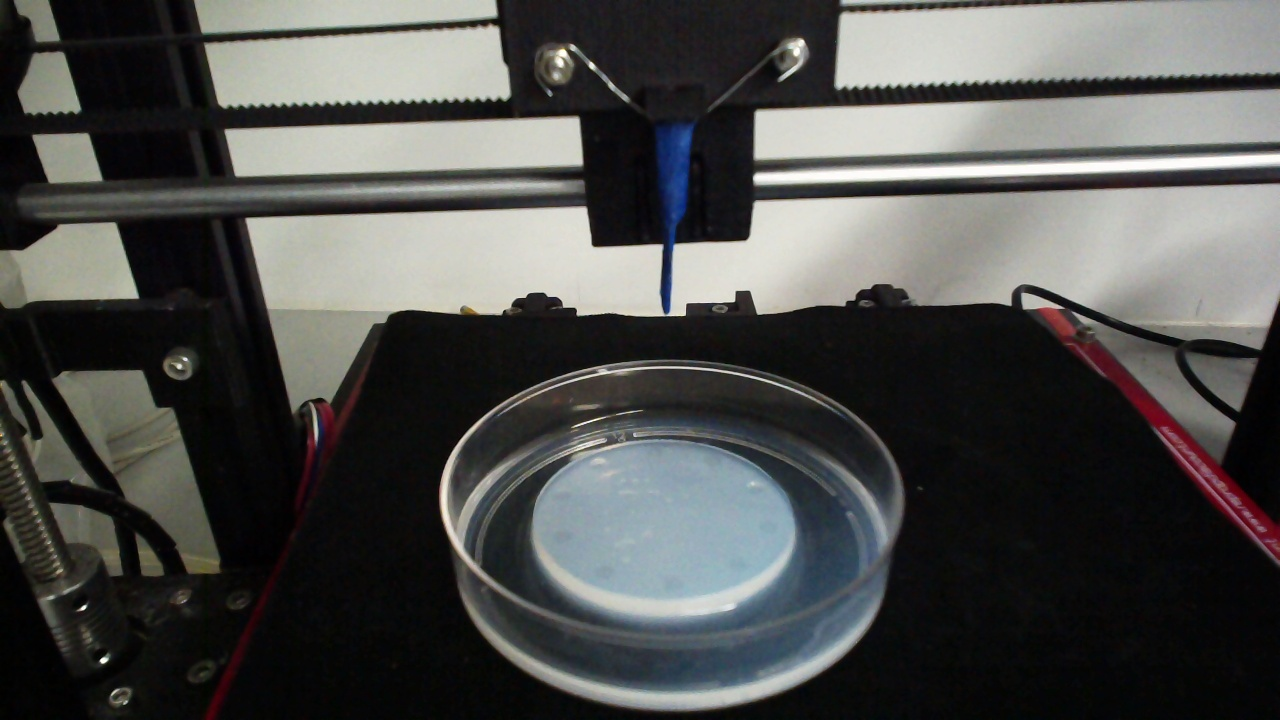groove: (659, 573, 686, 591), (548, 527, 574, 545), (757, 517, 780, 536), (727, 555, 749, 573), (591, 565, 614, 581), (552, 488, 573, 505), (701, 452, 723, 468), (587, 456, 607, 472), (745, 480, 765, 496), (644, 445, 663, 461)
needle: (659, 125, 692, 316)
